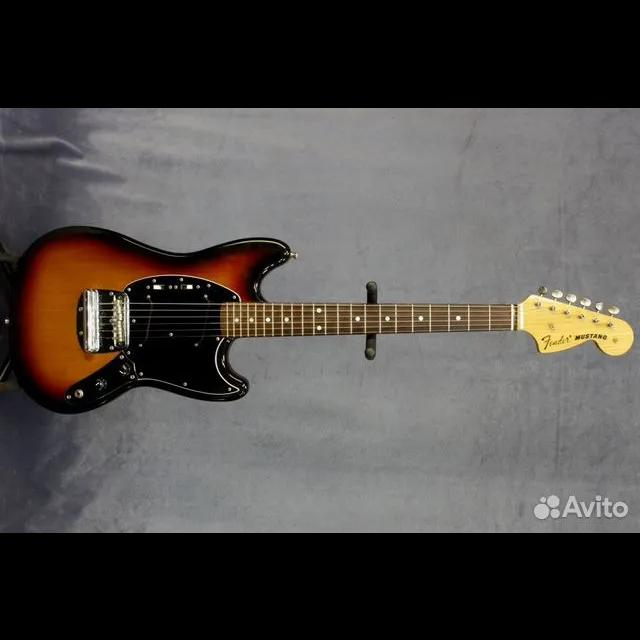Electric-Guitar: (6, 226, 634, 414)
